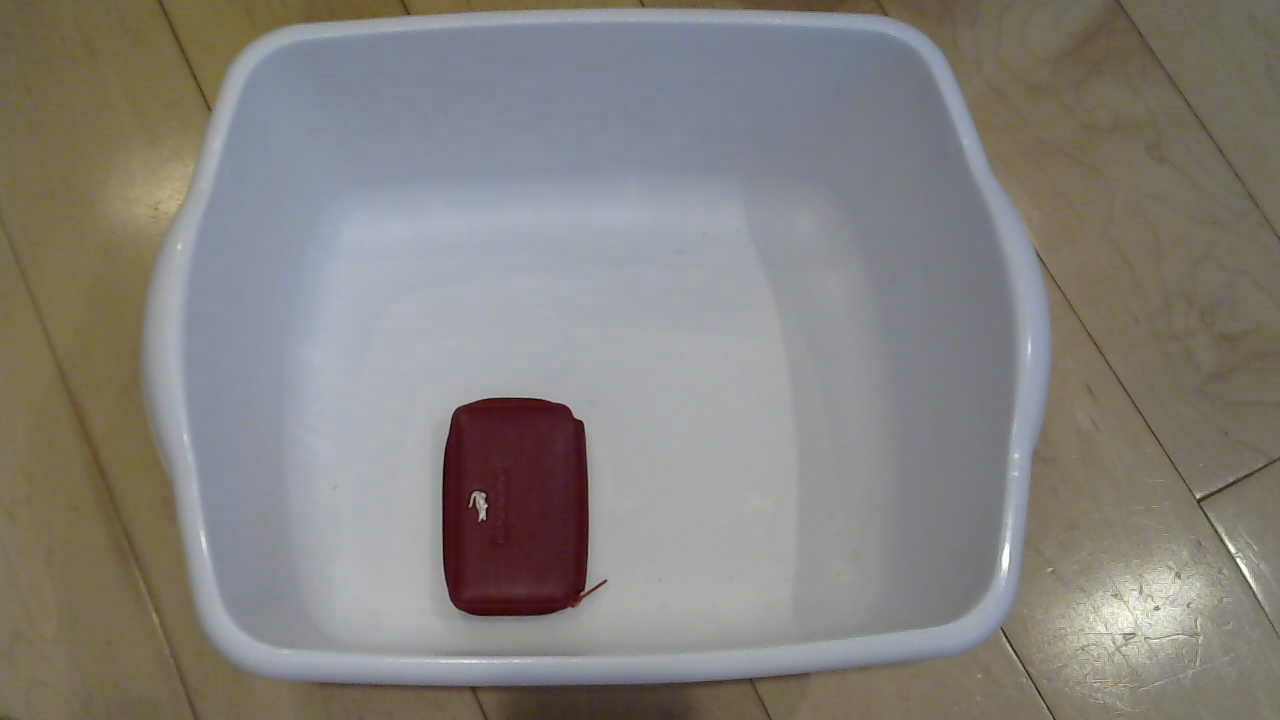wallet: (412, 392, 600, 632)
